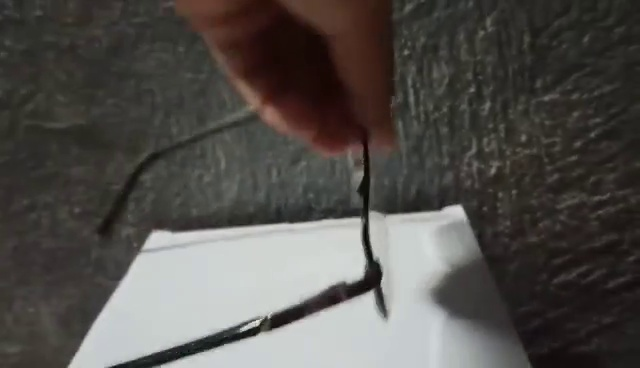glasses: (93, 96, 396, 368)
